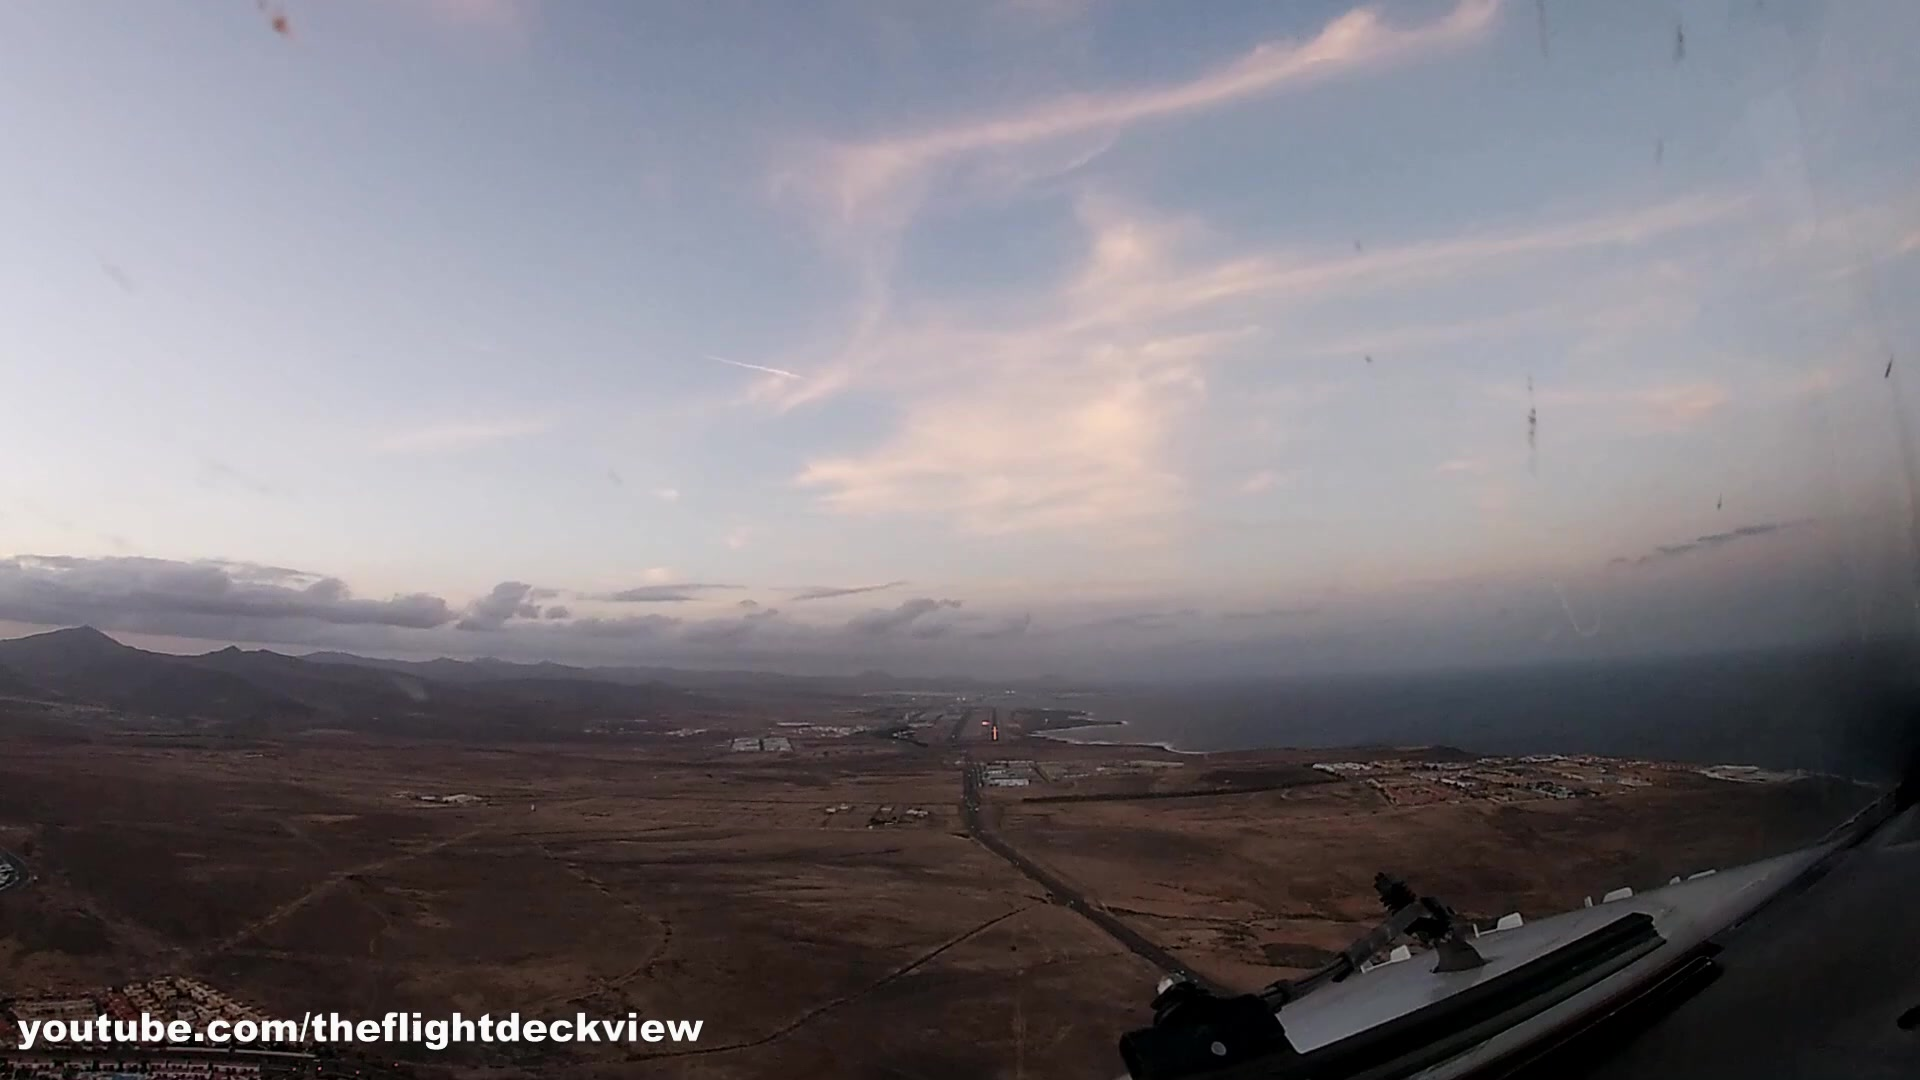runway: (986, 705, 1001, 745)
